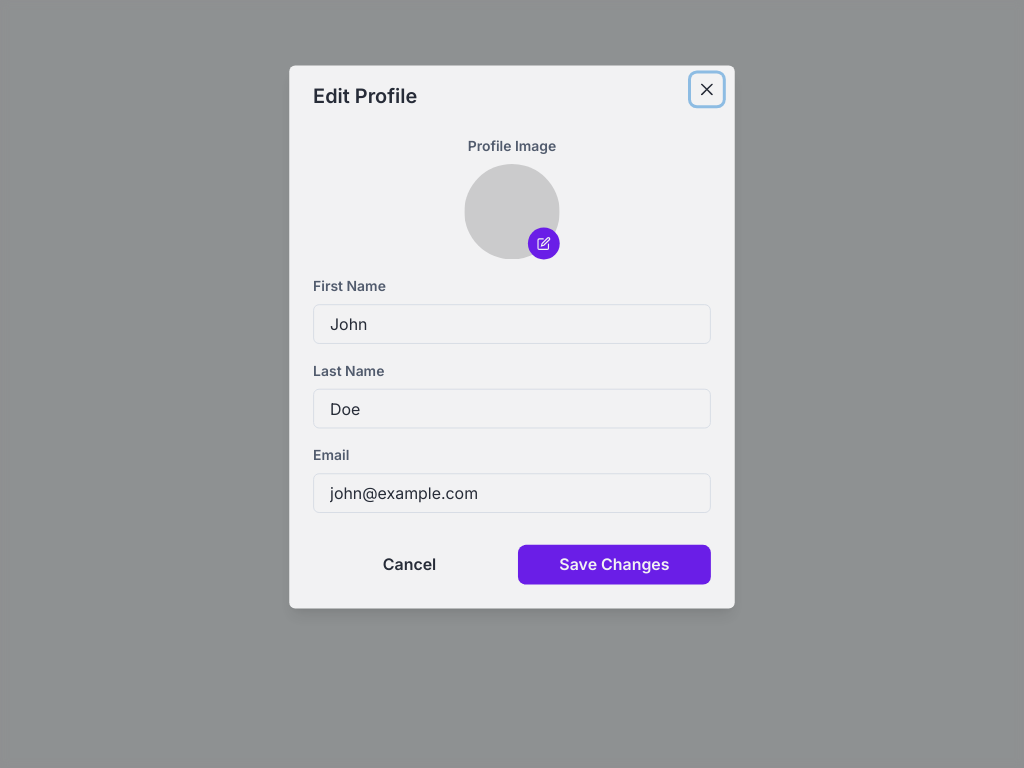
Test: EditProfileModal › disables save button when first name is empty
The width and height of the screenshot is (1024, 768).
Clear the field with placeholder "Enter first name" below "First Name" at {"x": 512, "y": 324}, box [313,304,711,344]
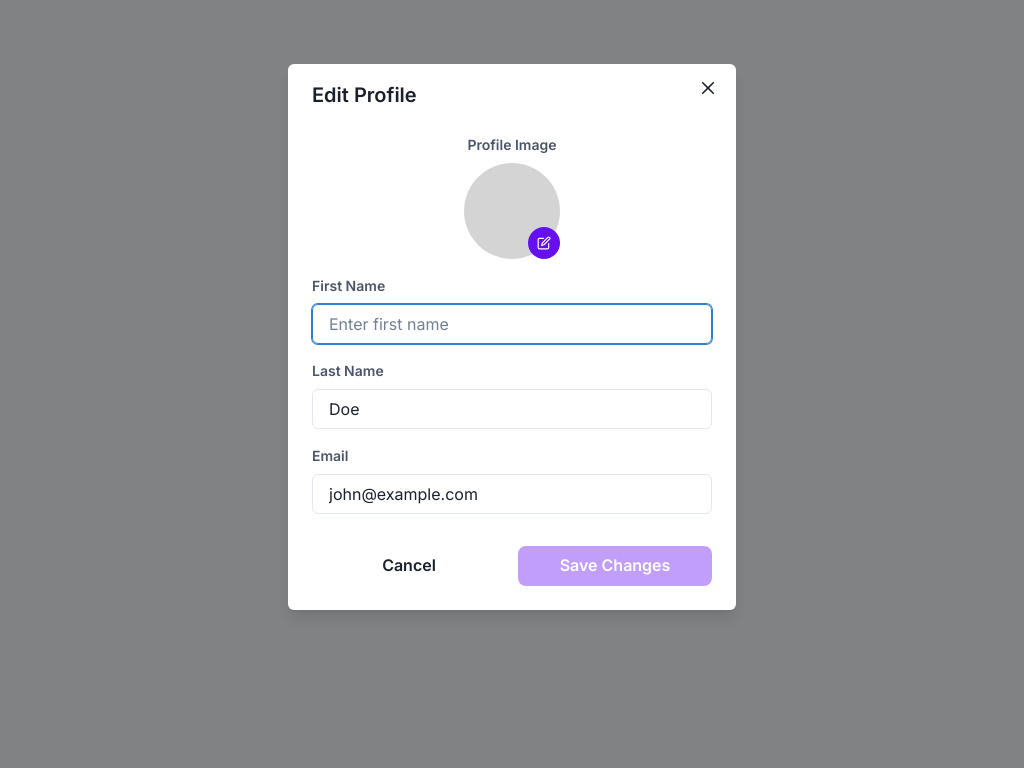
Expected: the button "Save Changes" is disabled, [518,546,712,586]
